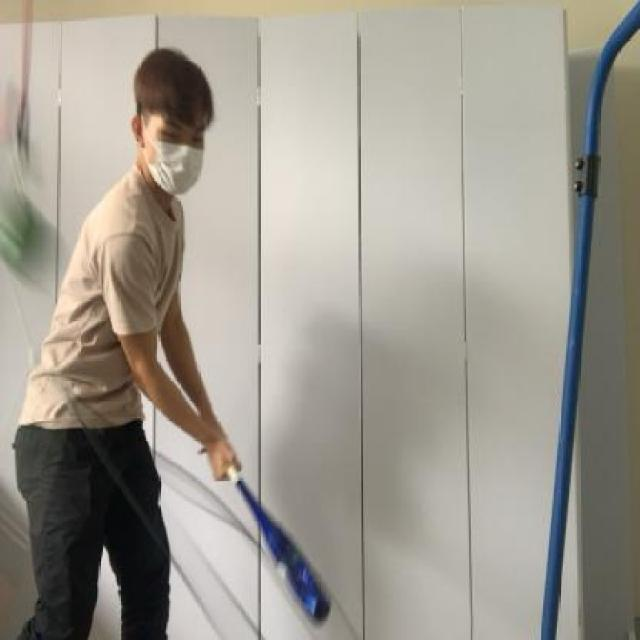baseball: (0, 176, 71, 301)
